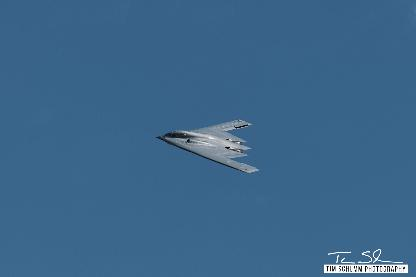B1: (156, 119, 260, 172)
